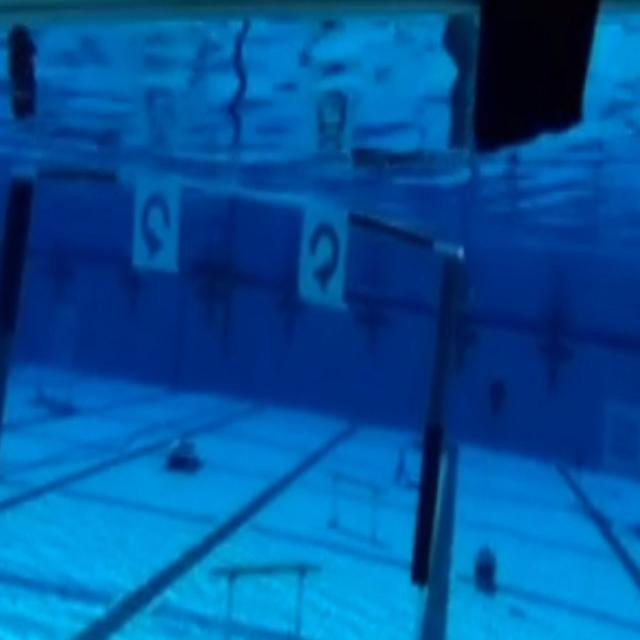Gate: (5, 154, 469, 606)
